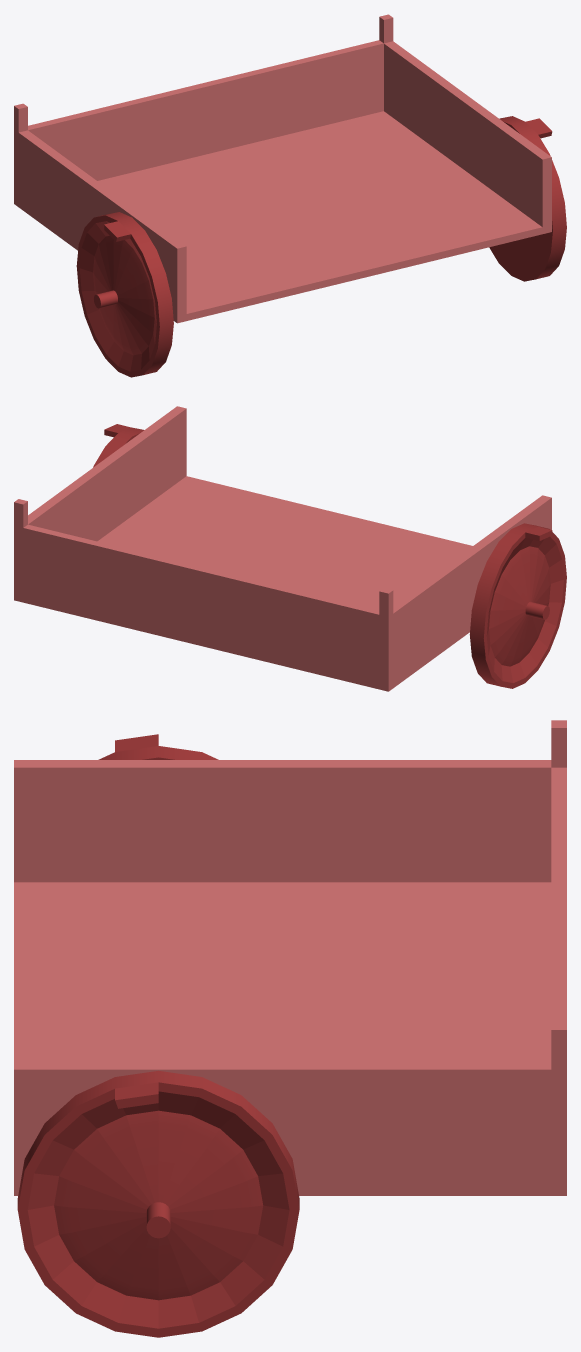
Rendered from Carriage.fbx.
The picture shows the model from 3 angles, top to bottom: view 1: azimuth 30°, elevation 25°; view 2: azimuth 150°, elevation 25°; view 3: azimuth 270°, elevation 25°; orthographic projection. The views are drawn at different scales.
Parts seen in each view (by area): view 1: pCube1, pCylinder1.001, pCylinder1; view 2: pCube1, pCylinder1.001, pCylinder1; view 3: pCube1, pCylinder1, pCylinder1.001.
Boxes of the visible parts, x1,y1,x2,y2 form: pCube1: (14,14,551,323); pCylinder1.001: (76,212,173,377); pCylinder1: (489,116,566,281); pCube1: (14,406,551,691); pCylinder1.001: (469,523,566,688); pCylinder1: (93,424,143,467); pCube1: (14,720,566,1195); pCylinder1: (17,1070,299,1337); pCylinder1.001: (98,734,218,759).
Bounding box in the file's own units: 2169 × 803 × 1366.
